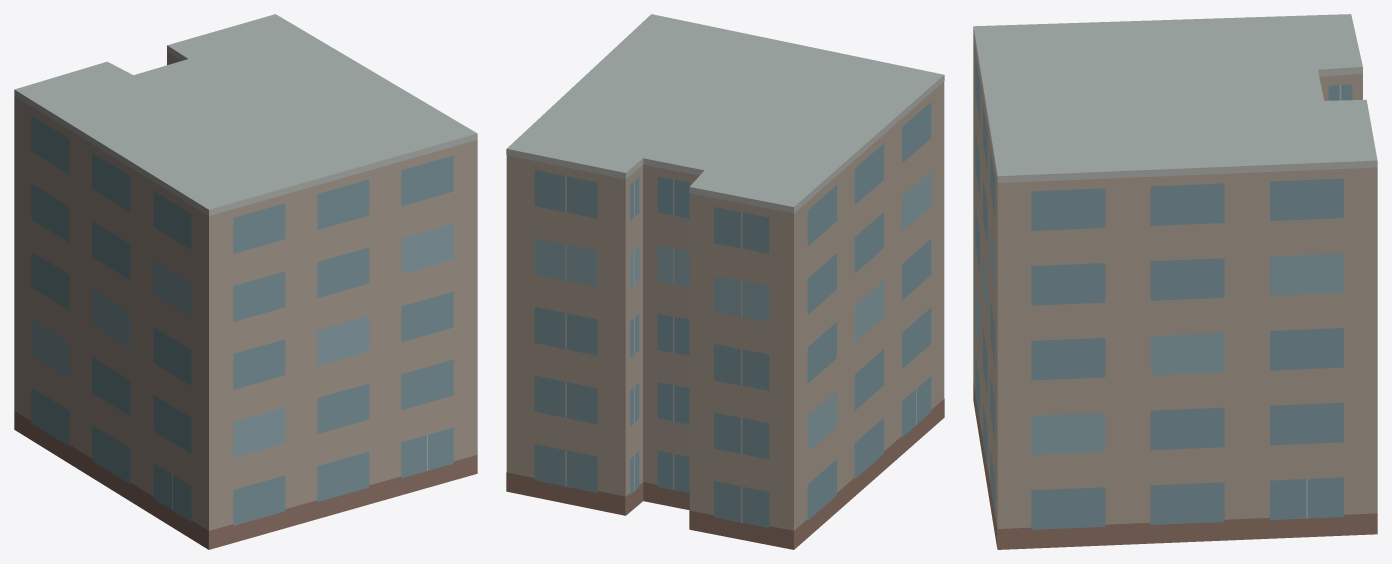
File: survey-upis-32967950.glb
3 views of the same model, side by side, from view 1: azimuth 30°, elevation 25°; view 2: azimuth 150°, elevation 25°; view 3: azimuth 270°, elevation 25° (orthographic). The views are drawn at different scales.
Visible parts, largest first — view 1: survey-upis-32967950.tmp; view 2: survey-upis-32967950.tmp; view 3: survey-upis-32967950.tmp.
Part boxes in pixels (x1=…): survey-upis-32967950.tmp: x1=14, y1=14, x2=477, y2=549; survey-upis-32967950.tmp: x1=506, y1=14, x2=944, y2=549; survey-upis-32967950.tmp: x1=973, y1=14, x2=1377, y2=549.
Bounding box in the file's own units: 12.25 × 13.15 × 12.9.
